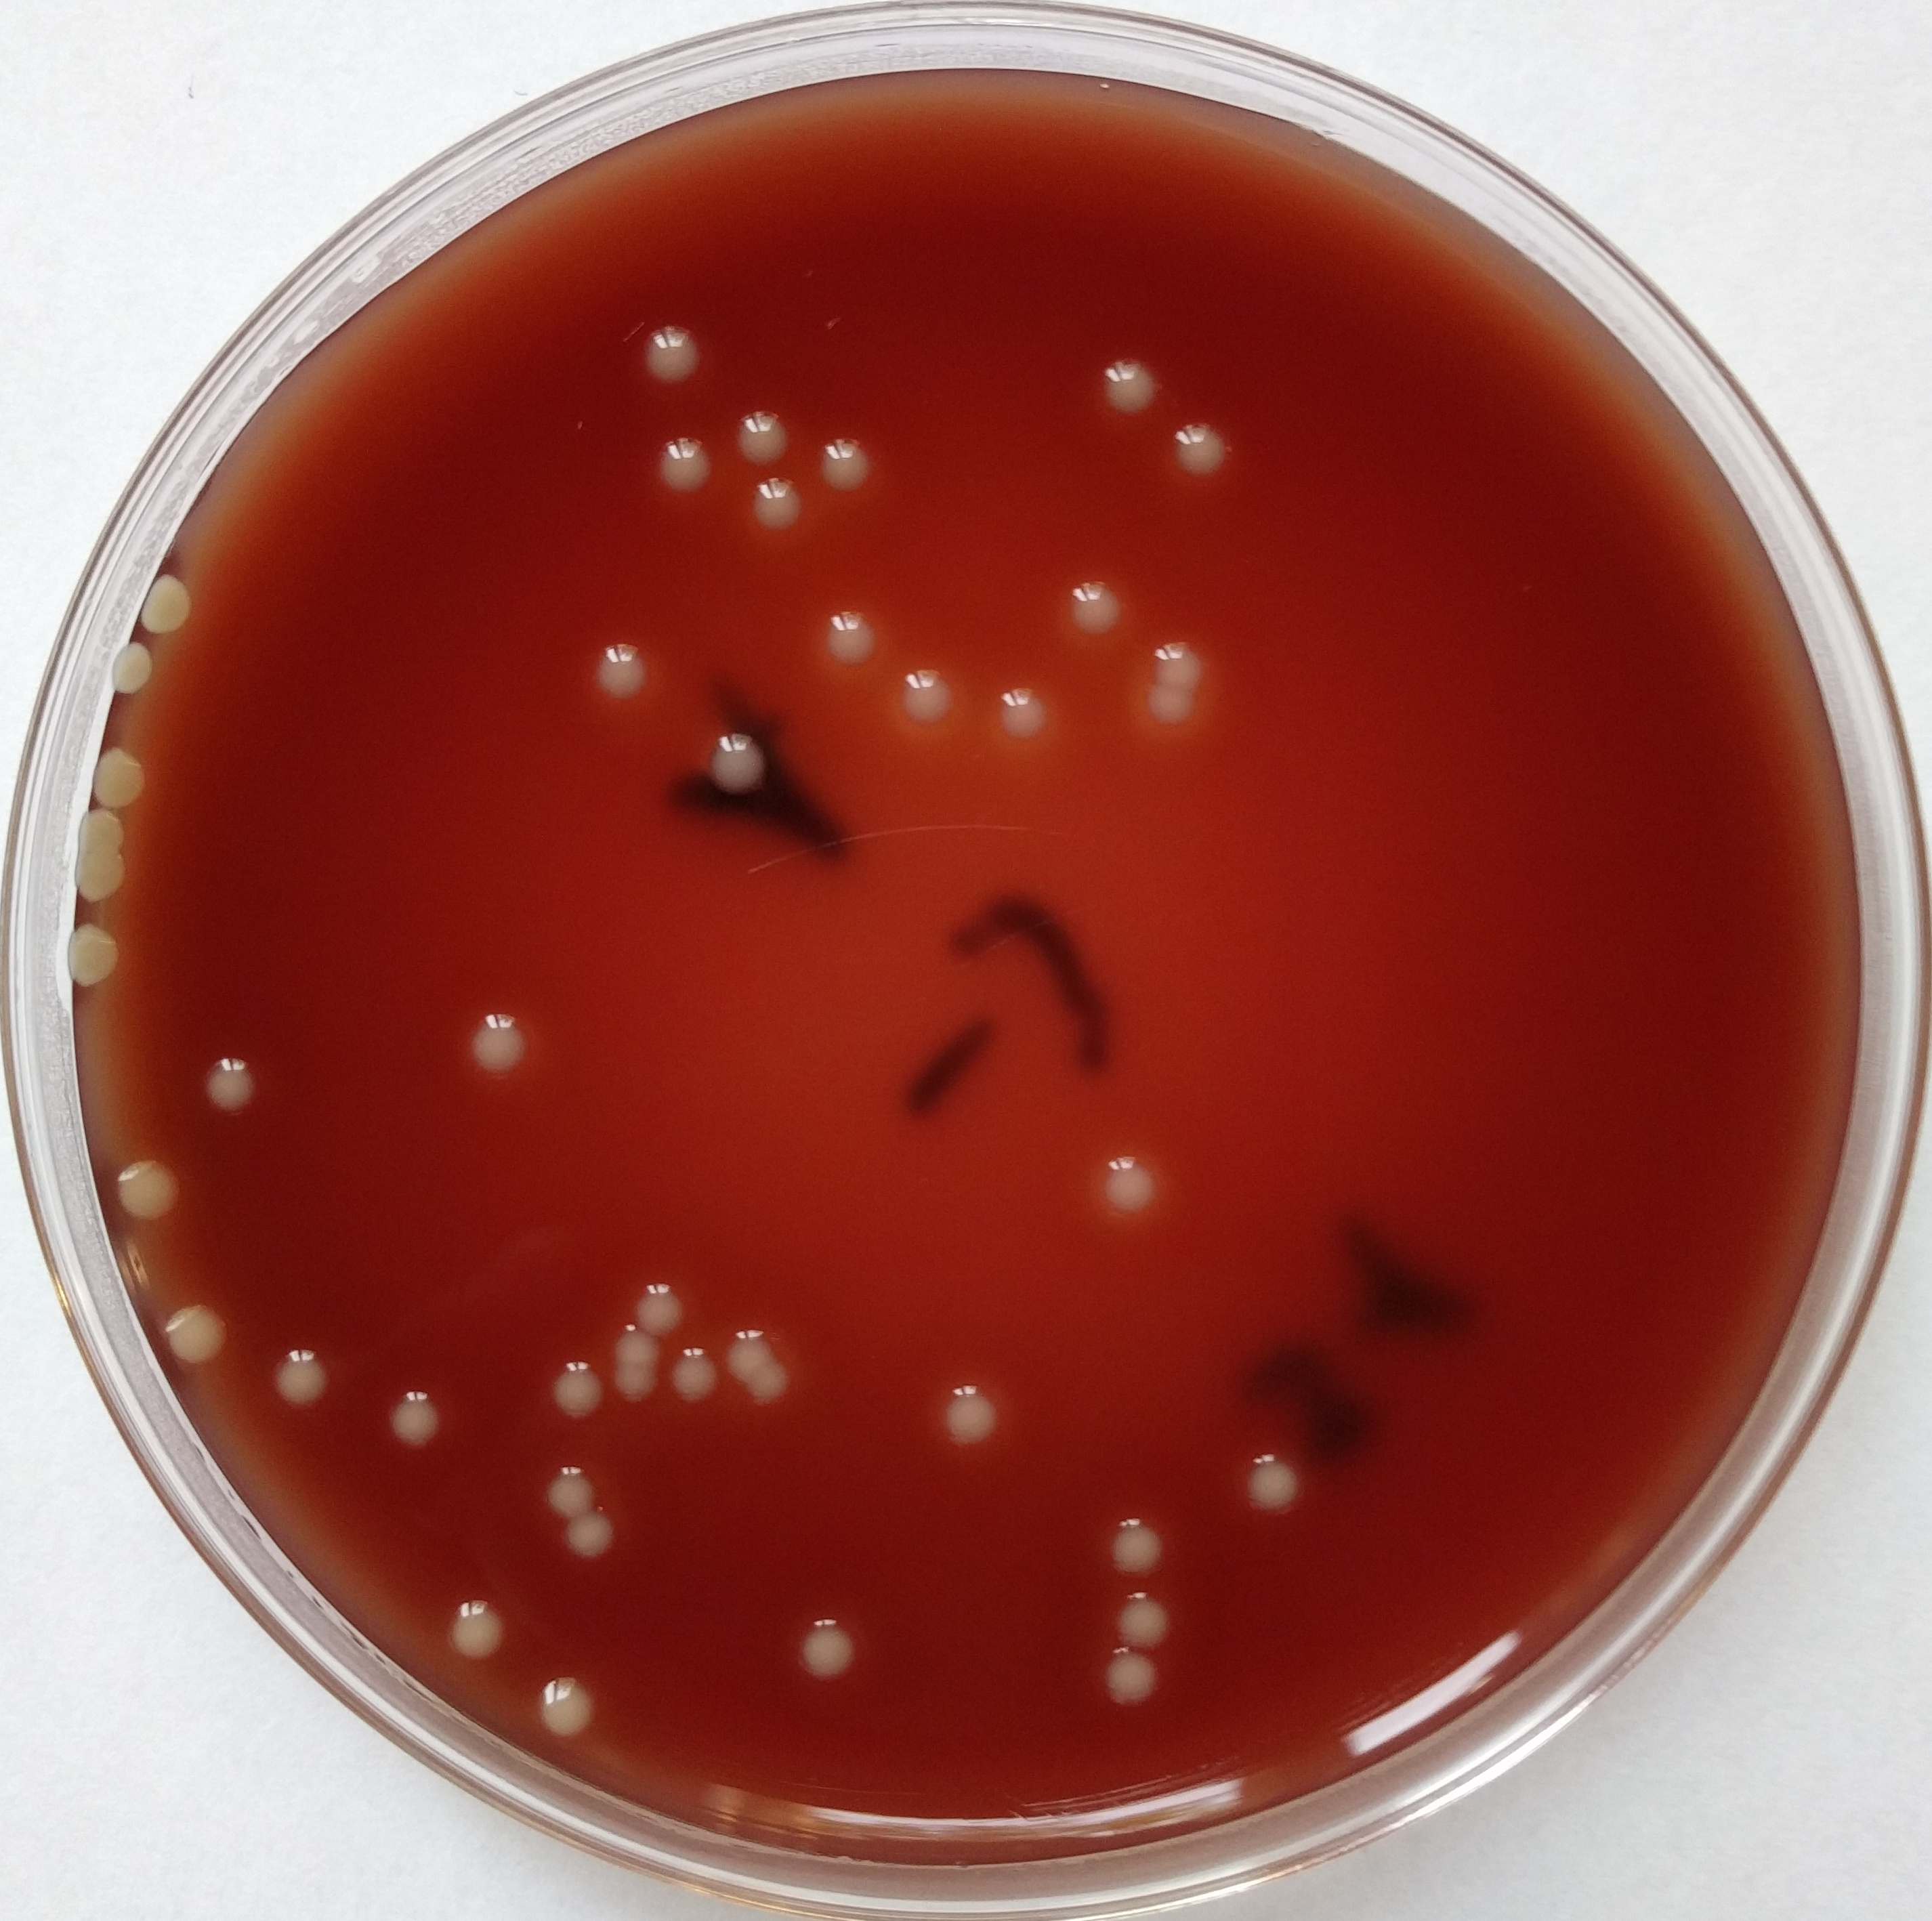sp03: (1094, 1488, 1184, 1589), (778, 1610, 869, 1691), (528, 1662, 609, 1754), (693, 716, 771, 802), (194, 1043, 274, 1119), (461, 997, 533, 1080), (1086, 332, 1154, 419), (55, 918, 135, 990), (104, 1145, 185, 1217), (157, 1293, 231, 1370), (260, 1346, 333, 1423), (135, 565, 216, 633), (1094, 1145, 1158, 1231), (435, 1590, 507, 1664), (90, 637, 164, 709), (943, 1363, 1001, 1455), (648, 431, 721, 500), (1170, 419, 1239, 491), (1233, 1453, 1311, 1516), (86, 739, 150, 816), (618, 1270, 686, 1339), (1089, 1645, 1154, 1713), (894, 660, 954, 732), (635, 320, 707, 378), (992, 677, 1052, 746), (589, 632, 649, 700), (537, 1444, 596, 1513), (725, 399, 792, 459), (1135, 677, 1204, 735), (385, 1383, 454, 1441), (563, 1497, 623, 1562), (1059, 573, 1123, 633), (827, 422, 882, 491), (1103, 1587, 1172, 1641), (72, 797, 132, 857), (822, 605, 878, 668), (545, 1355, 600, 1414), (751, 471, 801, 530), (725, 1319, 771, 1379), (1153, 637, 1207, 686), (743, 1355, 792, 1409), (58, 855, 127, 892), (604, 1332, 667, 1370), (670, 1351, 713, 1400), (618, 1355, 658, 1406)
